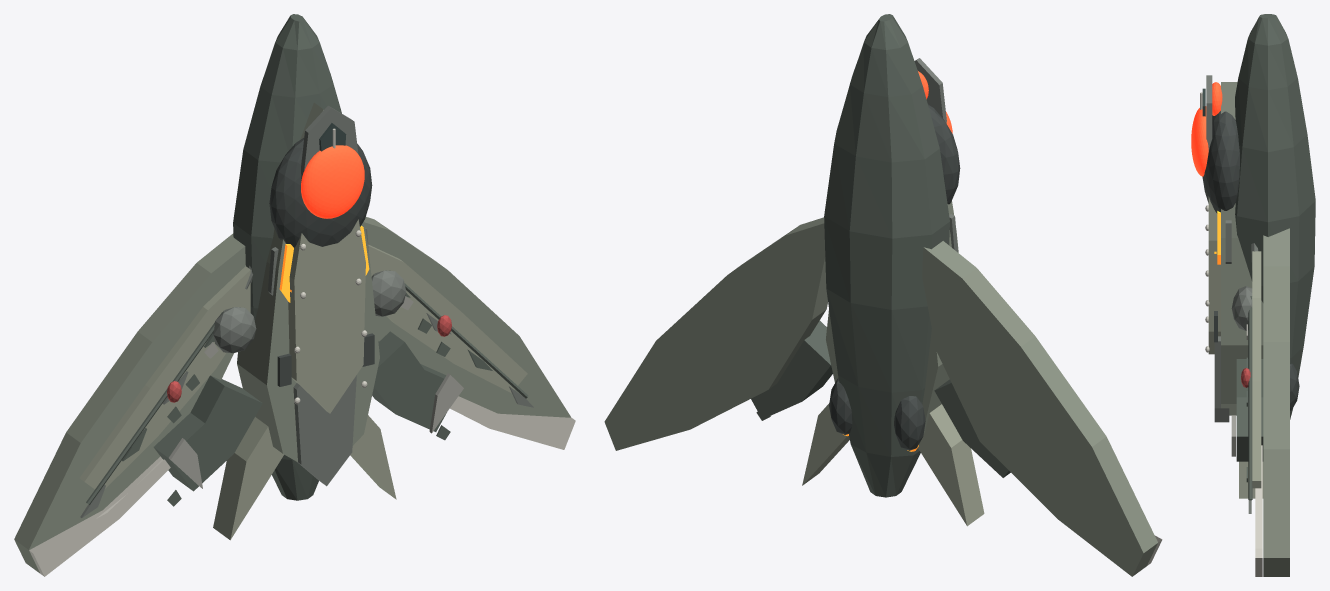
Rendered from enemy-interceptor.glb.
3 views of the same model, side by side, from view 1: azimuth 30°, elevation 25°; view 2: azimuth 150°, elevation 25°; view 3: azimuth 270°, elevation 25° (orthographic). The views are drawn at different scales.
Parts seen in each view (by area): view 1: Main crescent wing -1, Low poly interceptor core, Top central raised panel, Main crescent wing 1, Dorsal armored deck, Inner wing armor -1, Inner wing armor 1, Rear upward blade -1, Reactor housing, Rear spine plate, Rear upward blade 1, Tail fin -1 (+11 smaller); view 2: Low poly interceptor core, Main crescent wing -1, Main crescent wing 1, Tail fin -1, Rear upward blade 1, Dorsal armored deck, Rear upward blade -1, Tail fin 1, Reactor housing, Side thruster housing -1, Side thruster housing 1, Cockpit brow; view 3: Low poly interceptor core, Main crescent wing 1, Dorsal armored deck, Reactor housing, Inner wing armor 1, Top central raised panel, Rear upward blade 1, Long wing seam 1, Crimson reactor lens, Worn ivory wing edge 1, Rear spine plate, Wing pivot 1 (+7 smaller).
Part boxes in pixels (x1,y1,x2,y2): Main crescent wing -1: (14, 233, 245, 573); Low poly interceptor core: (233, 14, 341, 500); Top central raised panel: (288, 219, 365, 413); Main crescent wing 1: (364, 217, 571, 417); Dorsal armored deck: (237, 102, 379, 461); Inner wing armor -1: (79, 266, 250, 489); Inner wing armor 1: (368, 244, 527, 393); Rear upward blade -1: (153, 375, 262, 491); Reactor housing: (269, 138, 372, 247); Rear spine plate: (293, 375, 356, 486); Rear upward blade 1: (372, 331, 446, 431); Tail fin -1: (213, 417, 283, 540); Low poly interceptor core: (824, 14, 949, 497); Main crescent wing -1: (922, 241, 1157, 576); Main crescent wing 1: (604, 217, 827, 450); Tail fin -1: (918, 404, 984, 526); Rear upward blade 1: (751, 320, 832, 419); Dorsal armored deck: (826, 201, 958, 433); Rear upward blade -1: (934, 379, 1010, 477); Tail fin 1: (802, 403, 849, 485); Reactor housing: (928, 104, 960, 204); Side thruster housing -1: (894, 396, 925, 450); Side thruster housing 1: (829, 378, 852, 434); Cockpit brow: (914, 58, 946, 123); Low poly interceptor core: (1235, 14, 1315, 419); Main crescent wing 1: (1263, 228, 1289, 576); Dorsal armored deck: (1221, 82, 1263, 415); Reactor housing: (1202, 111, 1239, 213); Inner wing armor 1: (1252, 251, 1261, 488); Top central raised panel: (1208, 196, 1220, 354); Rear upward blade 1: (1236, 359, 1263, 461); Long wing seam 1: (1248, 296, 1252, 500); Crimson reactor lens: (1191, 106, 1208, 176); Worn ivory wing edge 1: (1255, 445, 1262, 576); Rear spine plate: (1214, 336, 1229, 422); Wing pivot 1: (1231, 286, 1252, 330).
Size of the model in its own units: 4.7 by 4.06 by 1.03.
